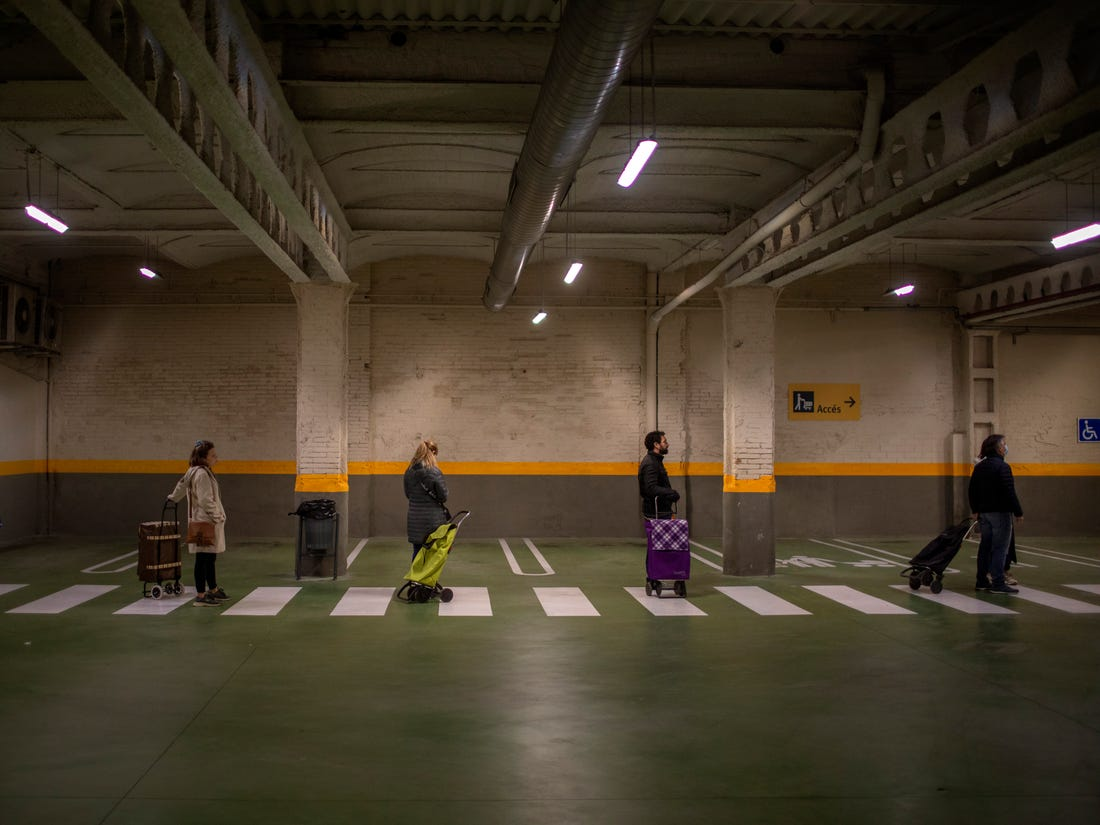Good: (639, 434, 1036, 613), (395, 430, 704, 614), (171, 432, 457, 621)
